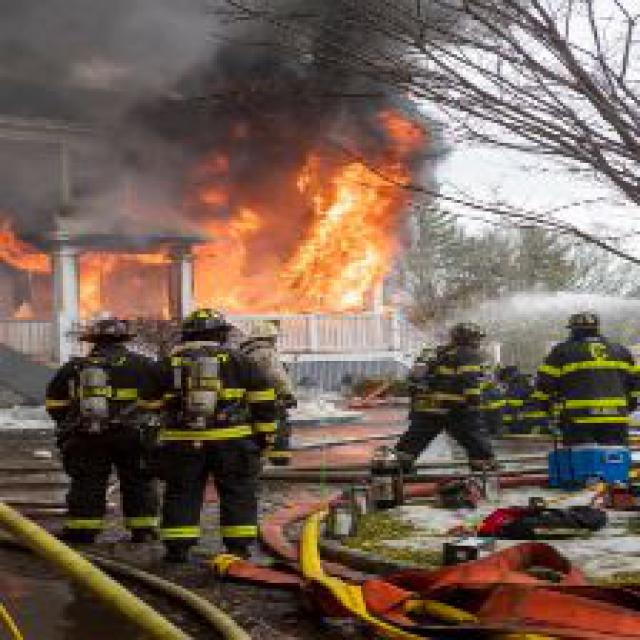fire: (223, 100, 443, 320)
